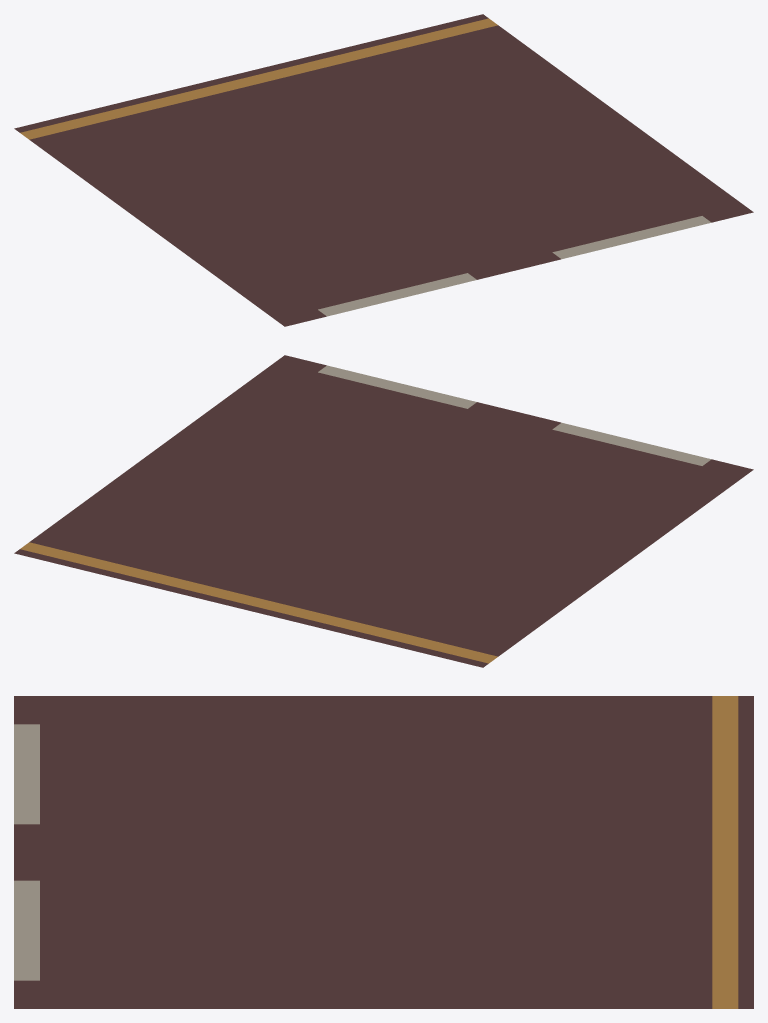
The model's file is Road_2.fbx.
The picture shows the model from 3 angles, top to bottom: view 1: azimuth 30°, elevation 25°; view 2: azimuth 150°, elevation 25°; view 3: azimuth 270°, elevation 25°; orthographic projection. The views are drawn at different scales.
Visible parts, largest first — view 1: Road_2; view 2: Road_2; view 3: Road_2.
Boxes of the visible parts, x1,y1,x2,y2 form: Road_2: (14, 14, 753, 326); Road_2: (14, 355, 753, 667); Road_2: (14, 696, 753, 1008).
Size of the model in its own units: 5 by 6.66e-07 by 5.
